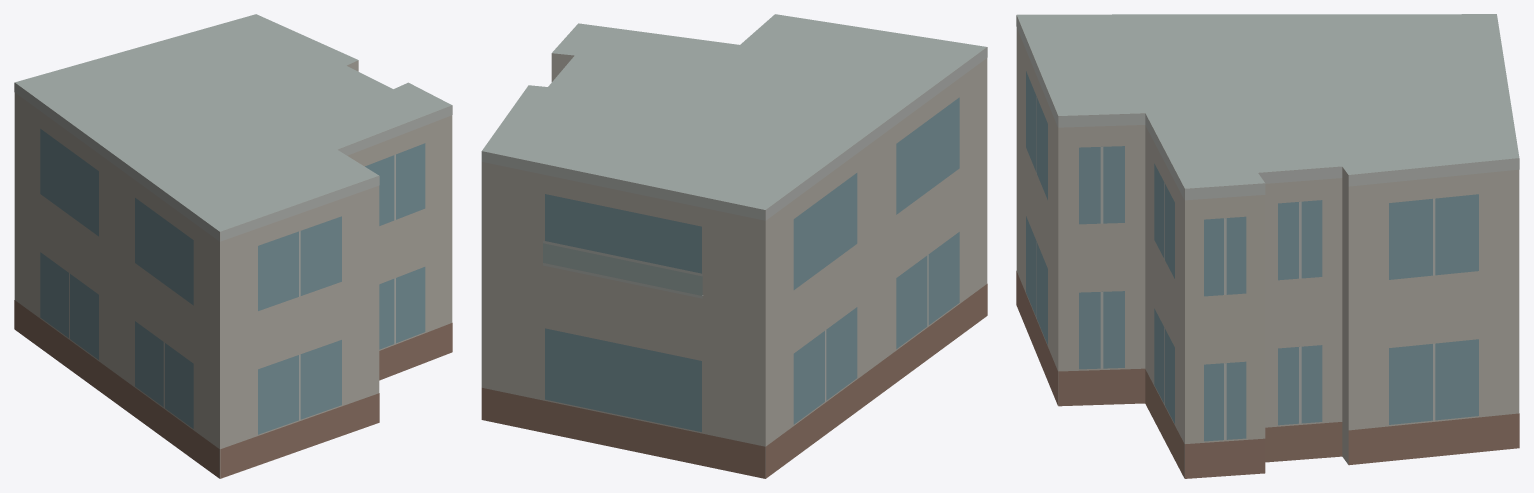
Rendered from survey-upis-32897297.glb.
3 renders of one model, left to right at view 1: azimuth 30°, elevation 25°; view 2: azimuth 150°, elevation 25°; view 3: azimuth 270°, elevation 25°, orthographic. The views are drawn at different scales.
Parts seen in each view (by area): view 1: survey-upis-32897297.tmp; view 2: survey-upis-32897297.tmp; view 3: survey-upis-32897297.tmp.
Part boxes in pixels (bbox=[...]): survey-upis-32897297.tmp: bbox=[14, 14, 452, 478]; survey-upis-32897297.tmp: bbox=[481, 14, 987, 478]; survey-upis-32897297.tmp: bbox=[1016, 14, 1519, 478].
Bounding box in the file's own units: 7.89 × 6.1 × 9.6.
